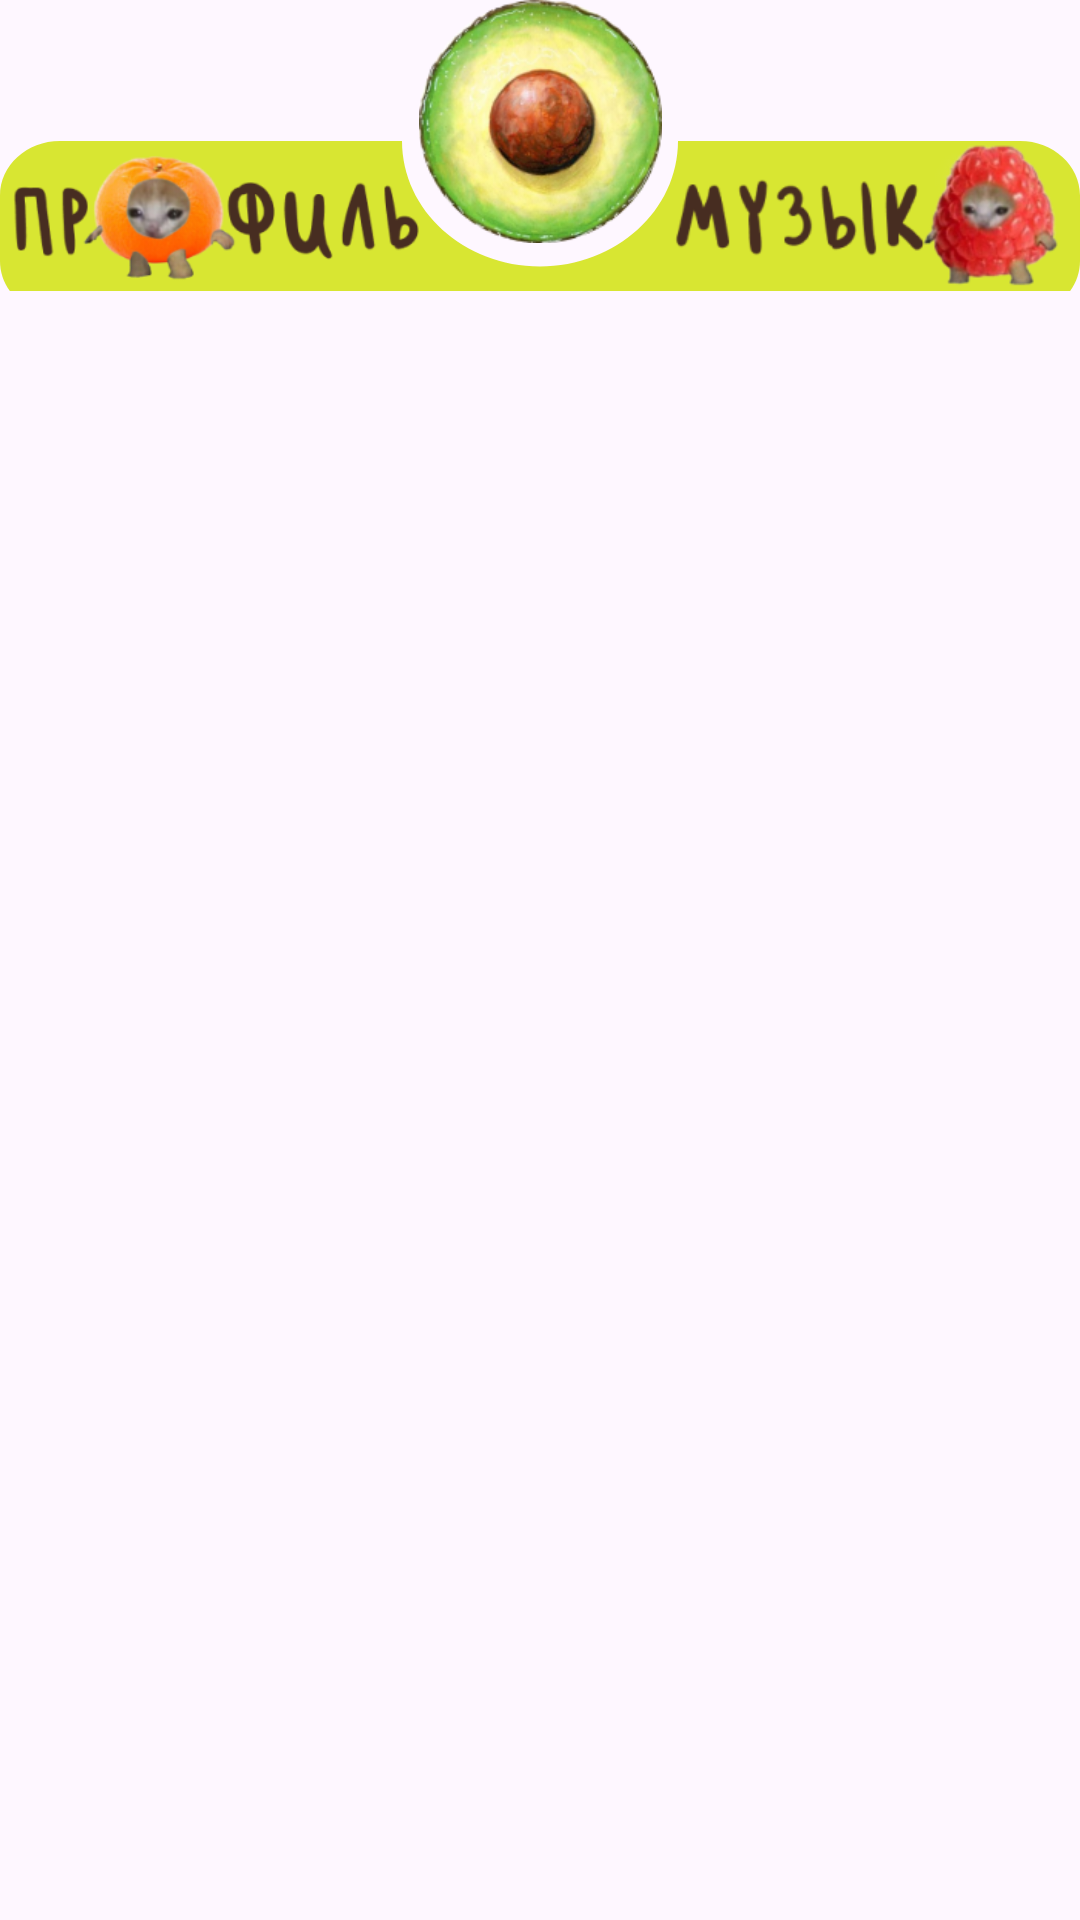

Locate icon controls on the screen. Image size 1080px×1920px, boxes as (x1, y1, x2, y2).
avocado: (419, 0, 662, 243)
